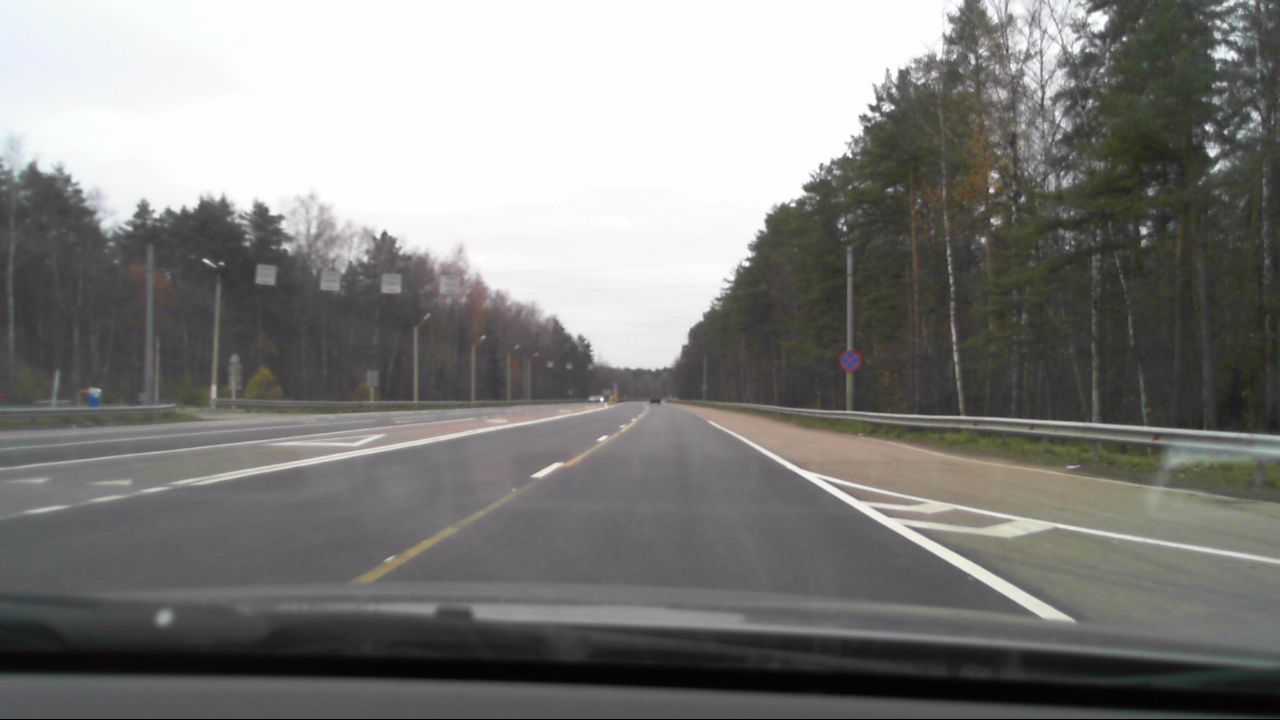No Parking: (836, 345, 863, 373)
